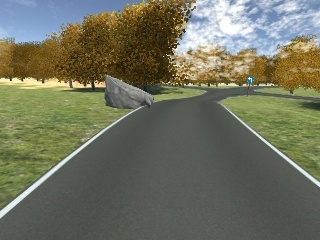Stone: (103, 72, 157, 111)
